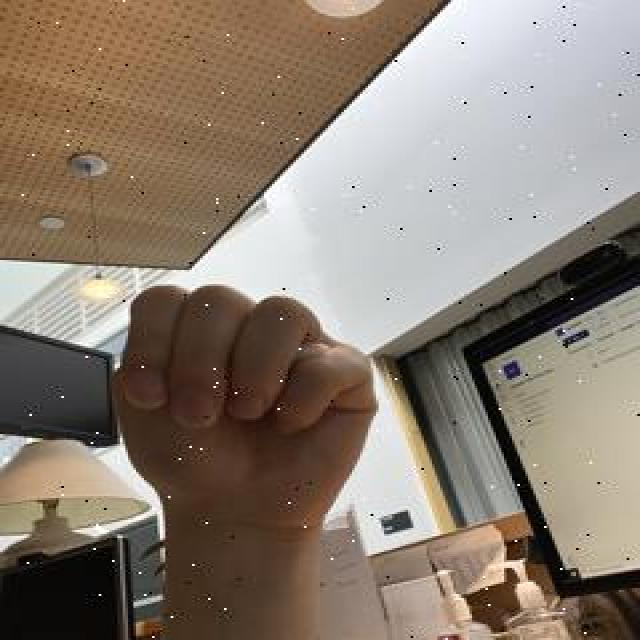M: (103, 276, 385, 534)
